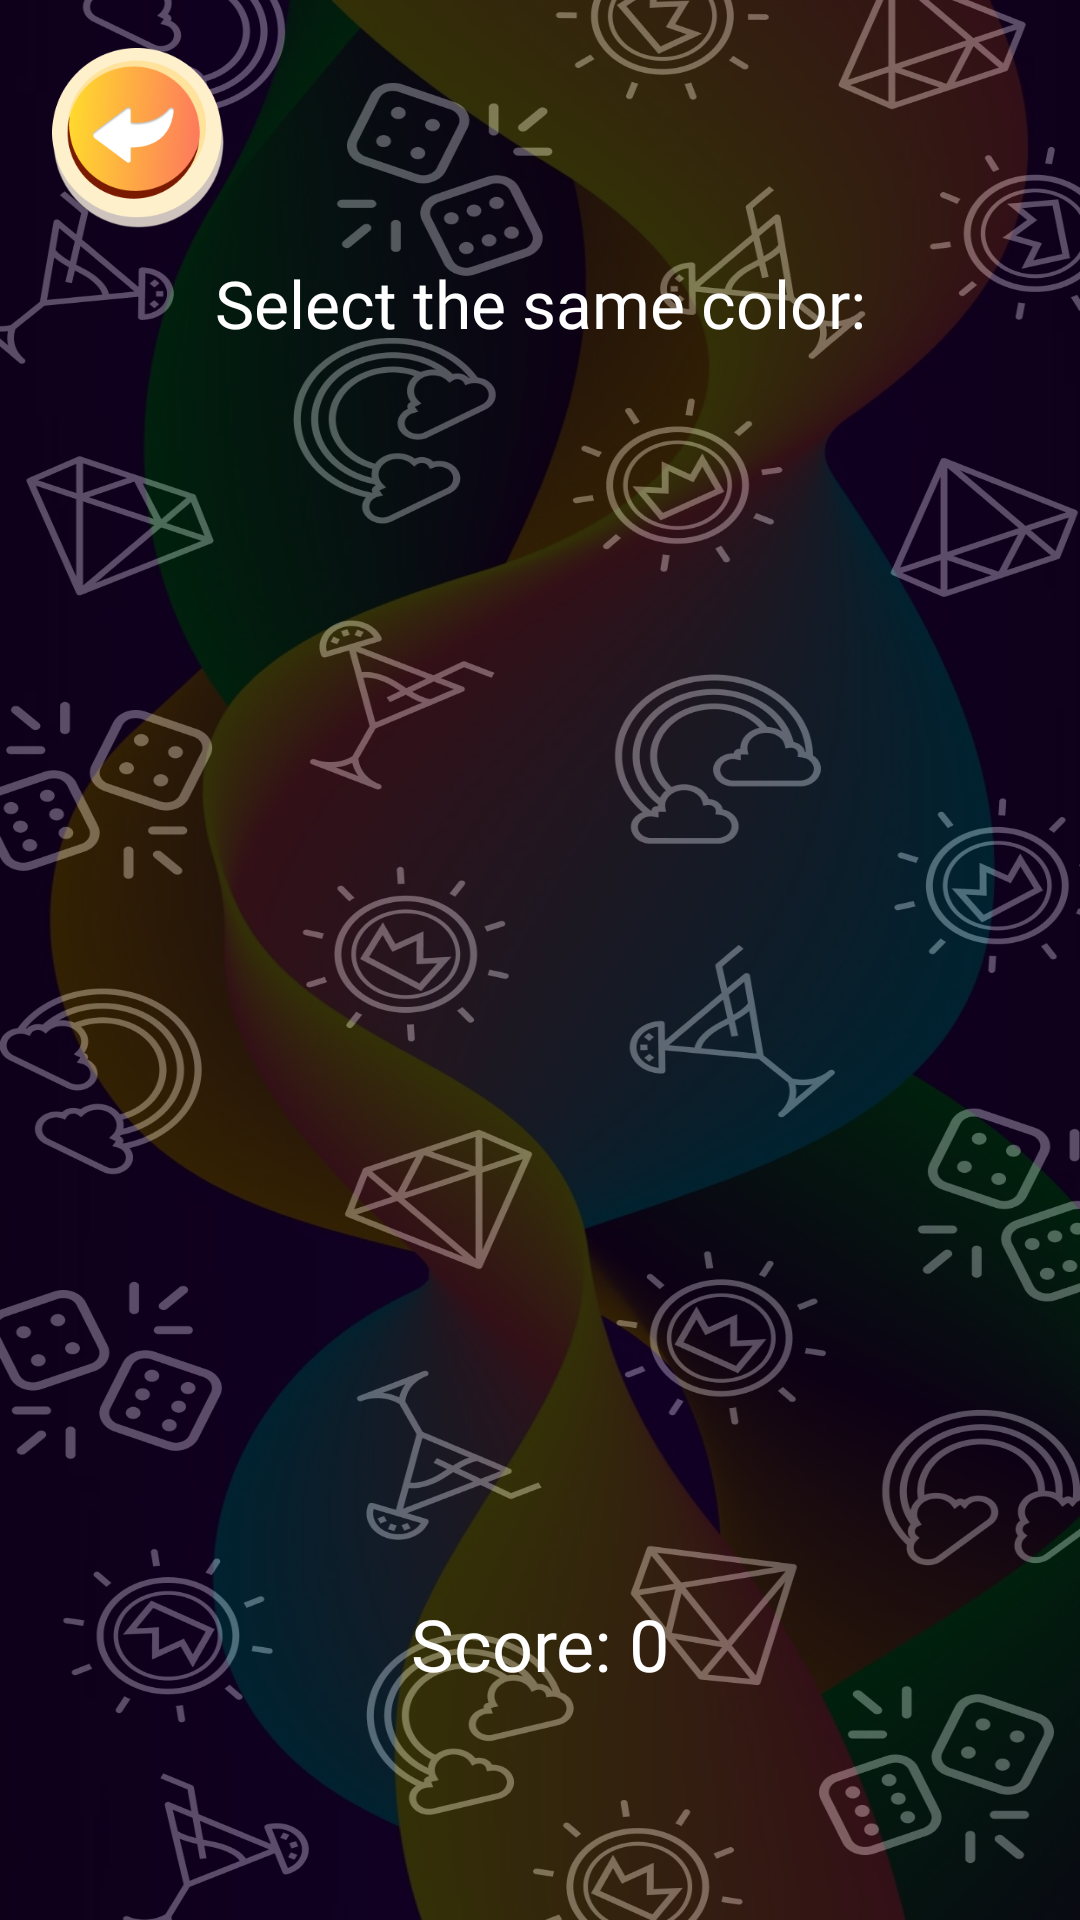

Where icons sit on this 1080x1920 app screen, as (x1, y1, x2, y2):
back: (52, 48, 228, 228)
